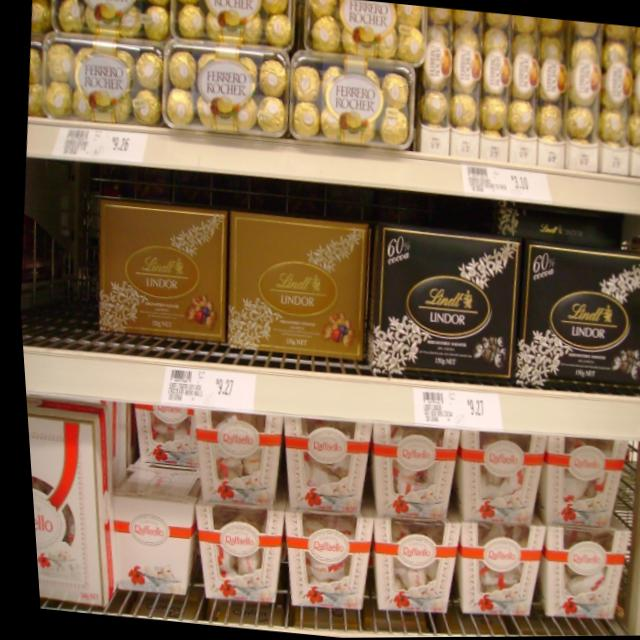q112: (84, 185, 238, 350), (220, 207, 377, 367)
q115: (361, 215, 527, 389), (516, 235, 640, 394)
